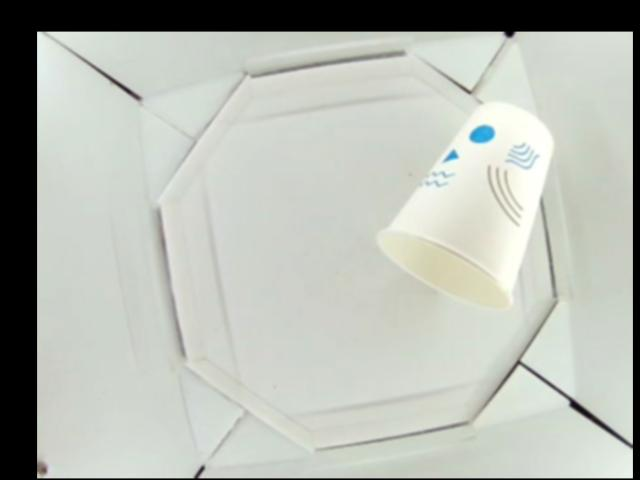Cup: (379, 99, 558, 305)
